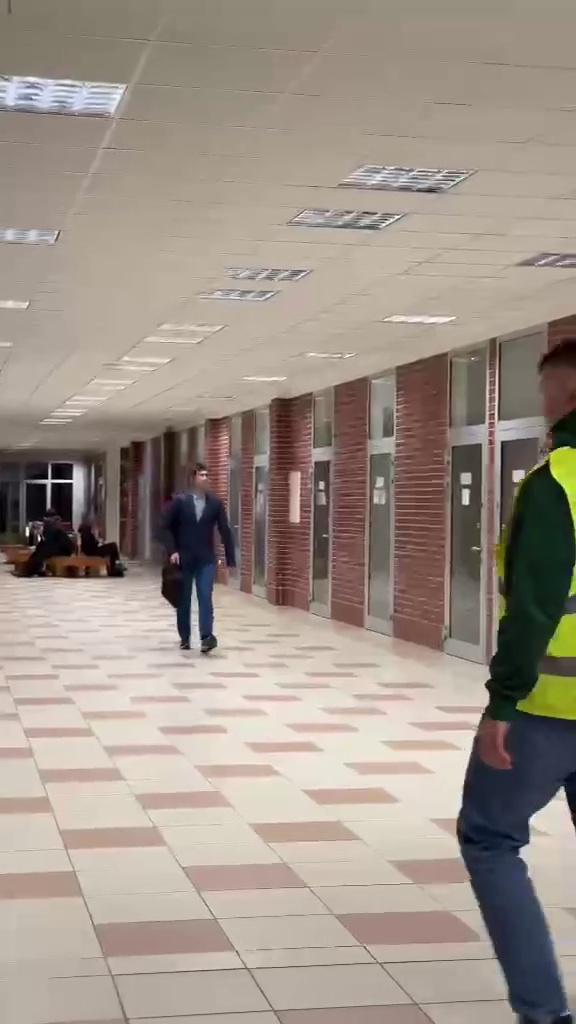no vest: (155, 461, 245, 653)
vest: (466, 324, 576, 1024)
